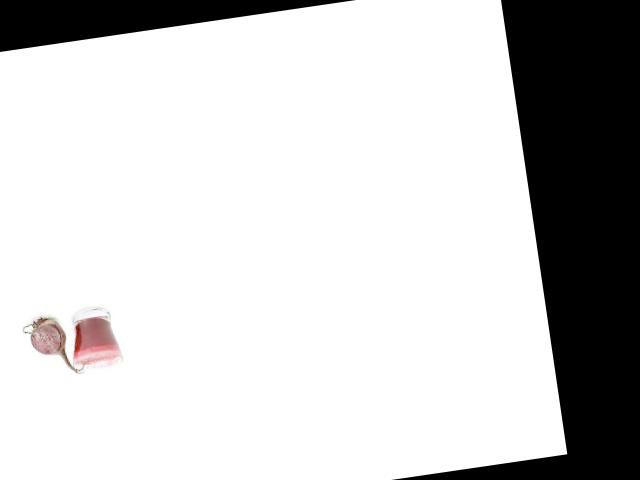beet: (21, 310, 92, 380)
